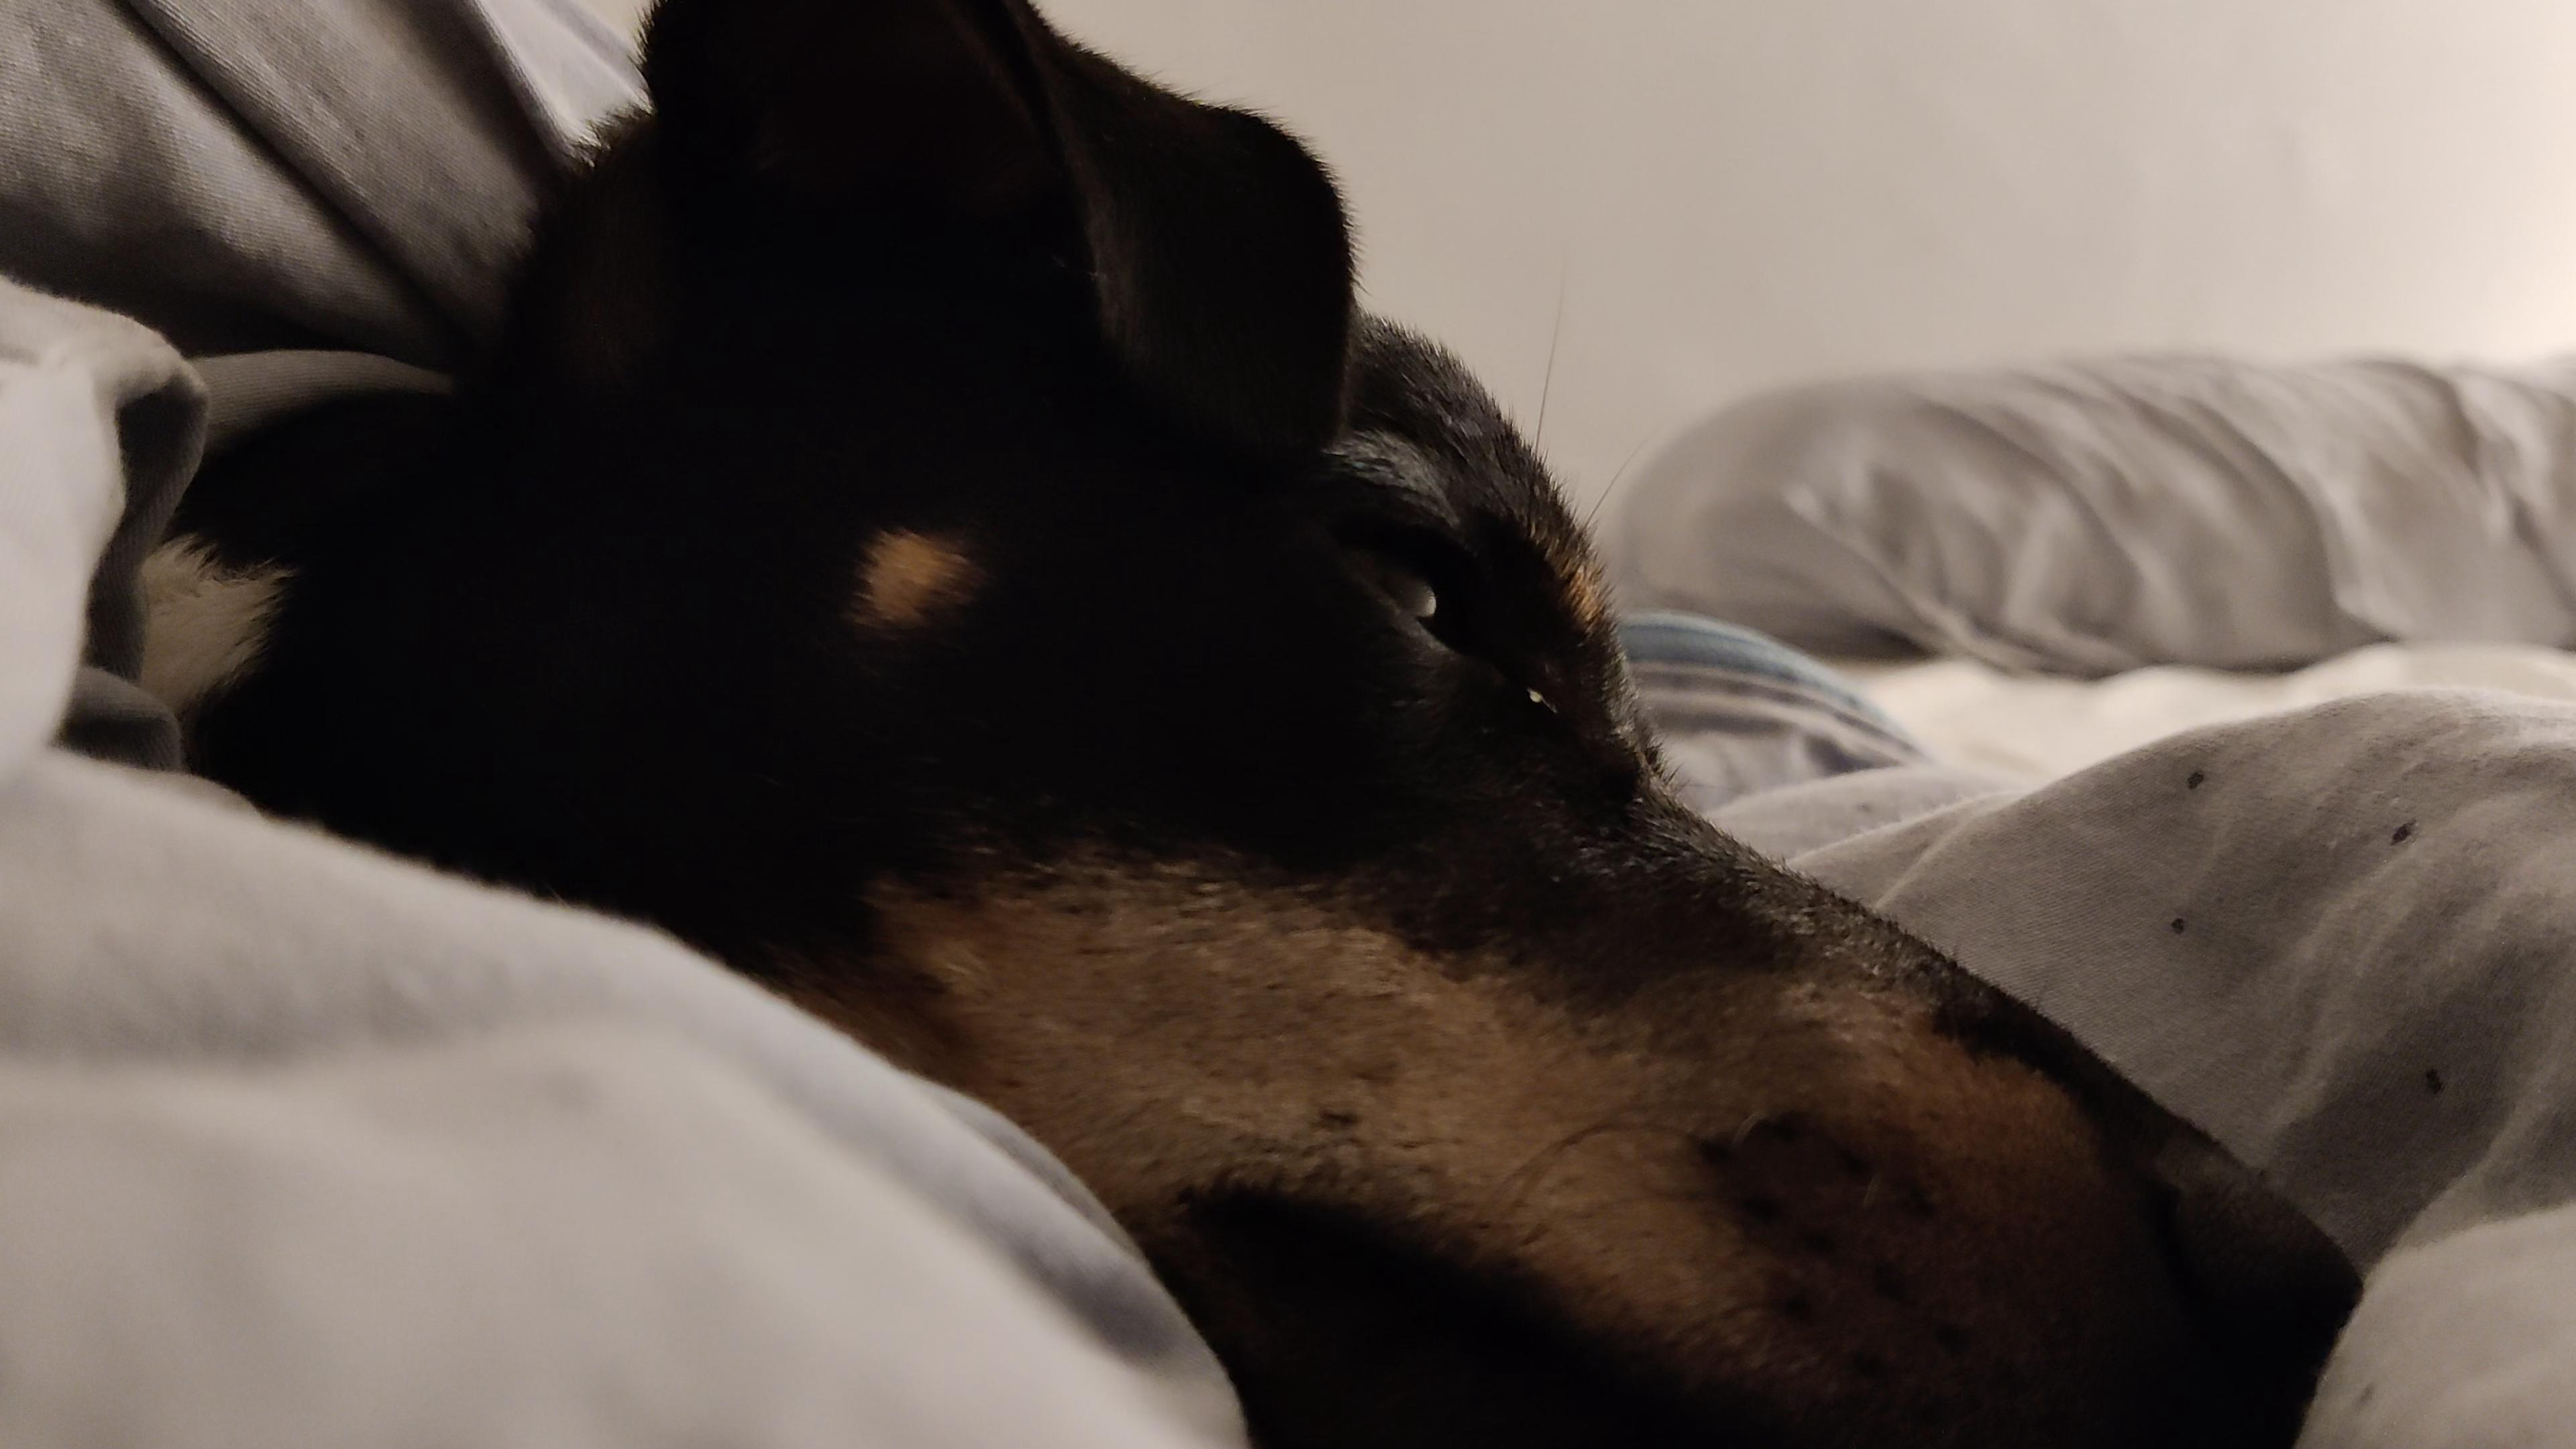Dog: (113, 0, 2385, 1449)
